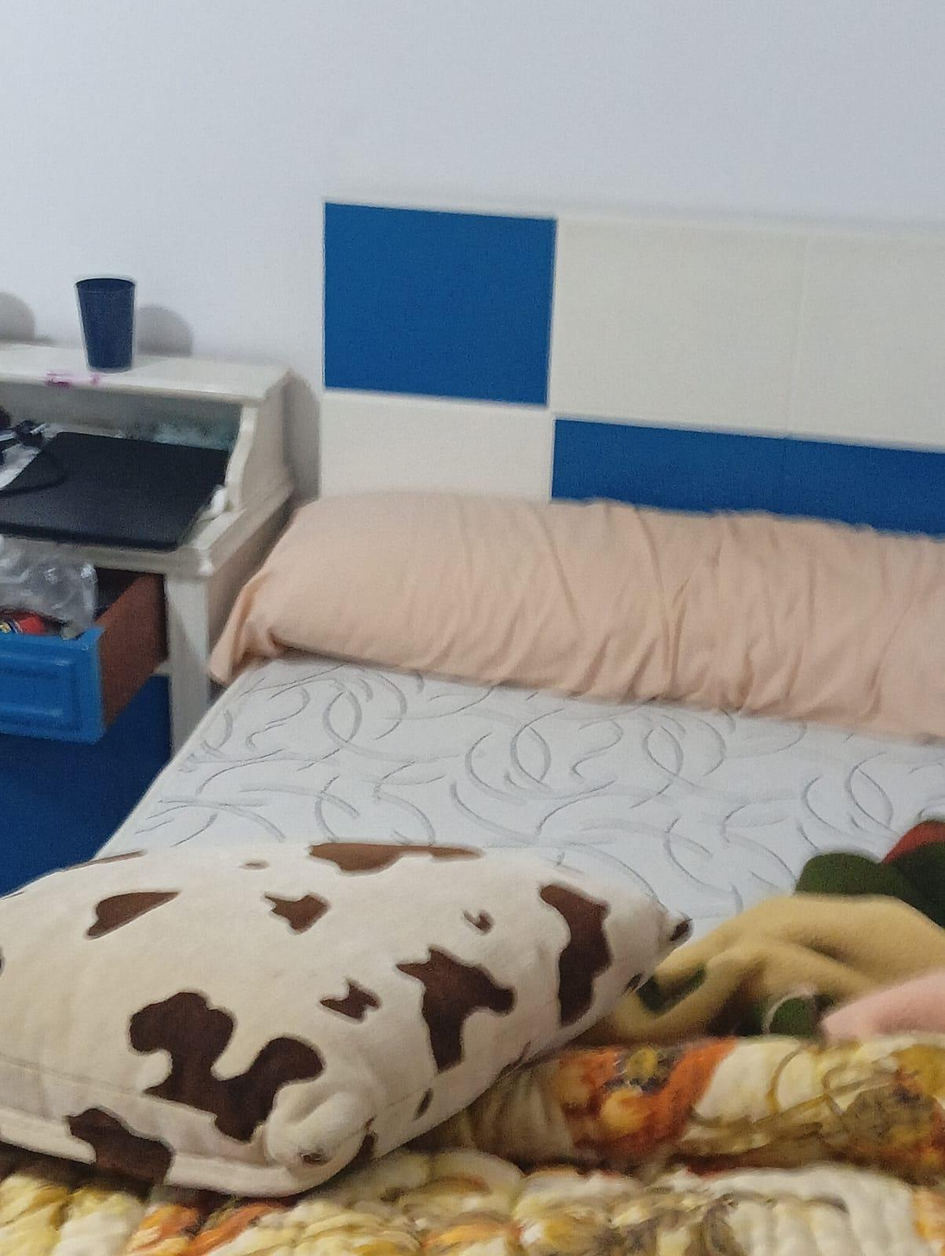cup: (75, 276, 135, 372)
